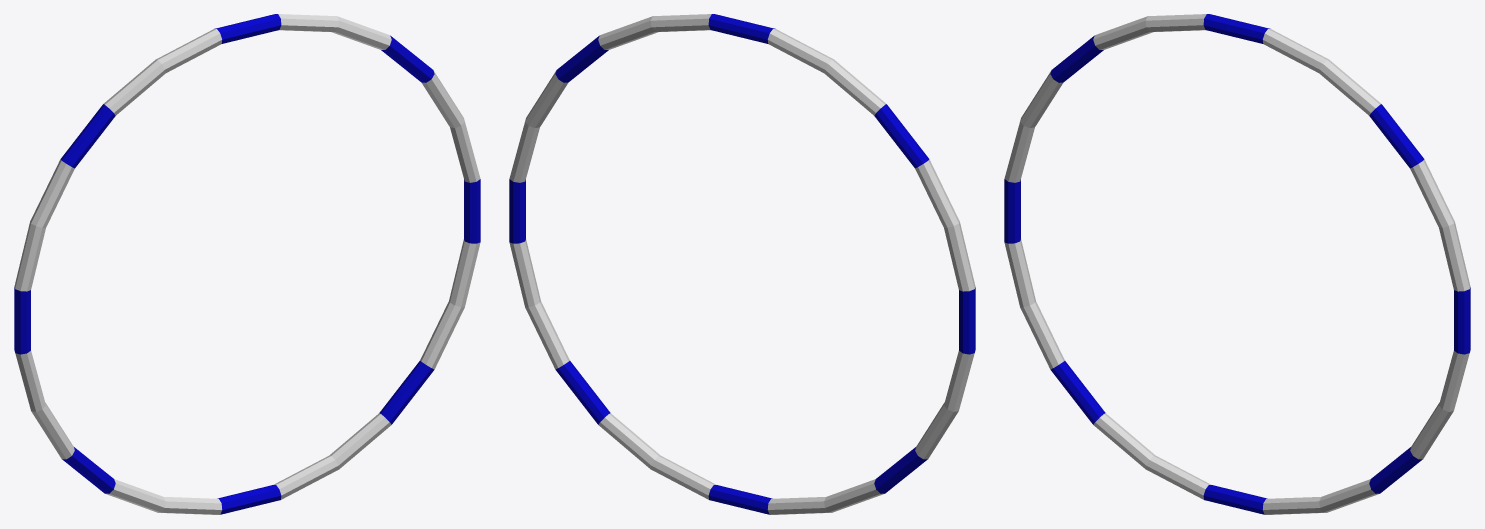
The model's file is Proto_Stunt_Course_Ring_Large_01.fbx.
3 views of the same model, side by side, from view 1: azimuth 30°, elevation 25°; view 2: azimuth 150°, elevation 25°; view 3: azimuth 330°, elevation 25° (orthographic).
Parts seen in each view (by area): view 1: Proto_Stunt_Course_Ring_Large_01; view 2: Proto_Stunt_Course_Ring_Large_01; view 3: Proto_Stunt_Course_Ring_Large_01.
Boxes of the visible parts, box(x1,y1,x2,y2) form: Proto_Stunt_Course_Ring_Large_01: box(14, 14, 480, 514); Proto_Stunt_Course_Ring_Large_01: box(509, 14, 975, 514); Proto_Stunt_Course_Ring_Large_01: box(1004, 14, 1470, 514).
Size of the model in its own units: 6.2 by 6.2 by 0.2.
